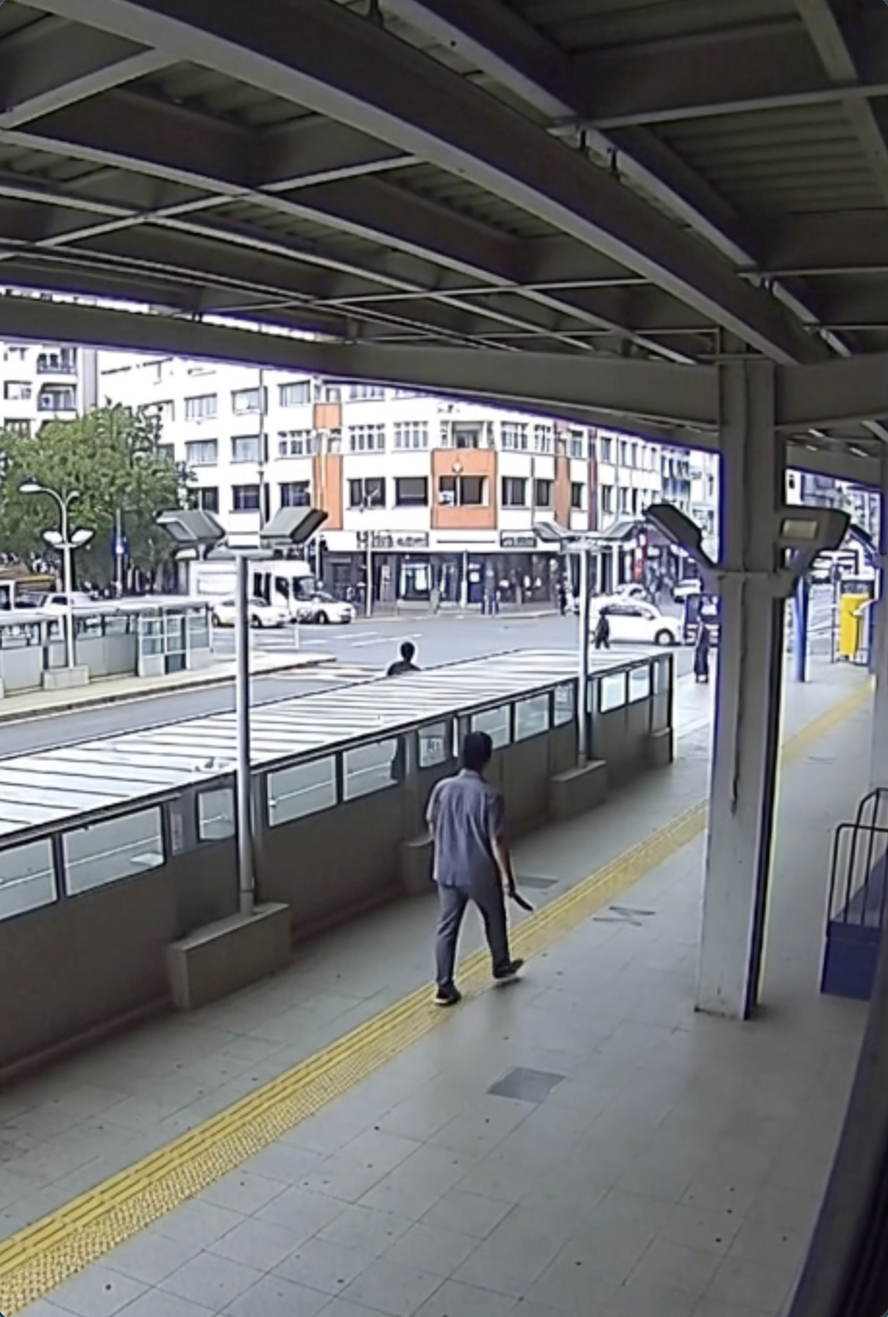Heavy Gun: (416, 722, 537, 1014)
Knife: (494, 872, 537, 914)
